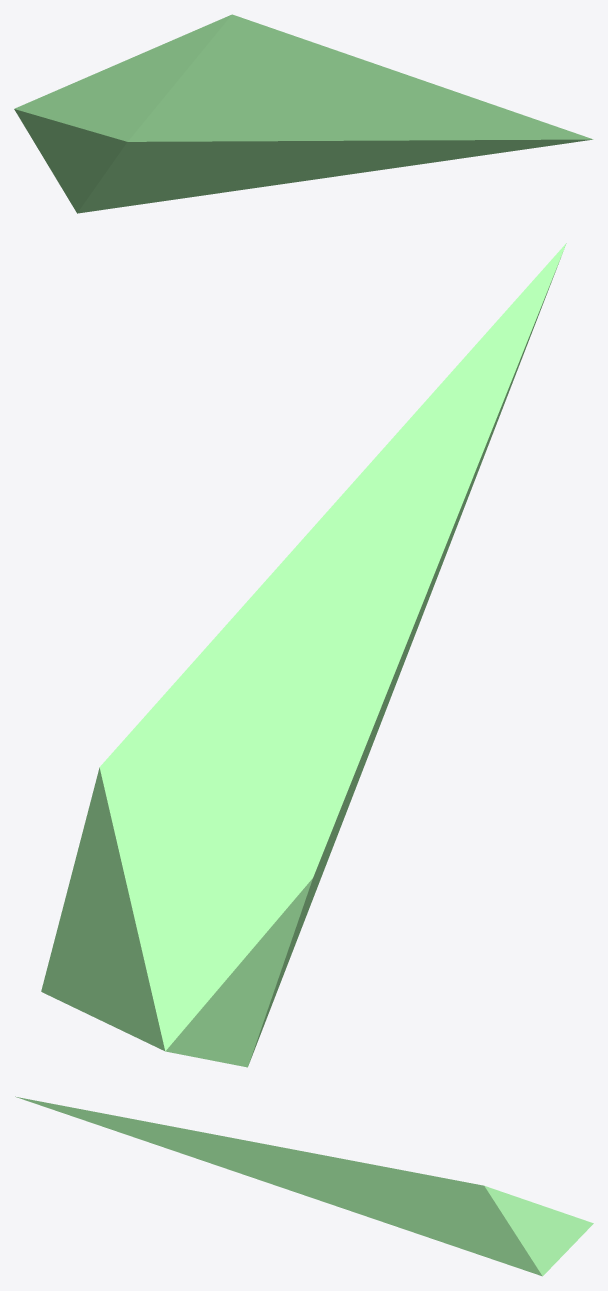
File: xarm7_with_gripper_LR4_R560_link7_respondable_coll_18.dae
The picture shows the model from 3 angles, top to bottom: view 1: azimuth 30°, elevation 25°; view 2: azimuth 150°, elevation 25°; view 3: azimuth 270°, elevation 25°; orthographic projection. The views are drawn at different scales.
Parts seen in each view (by area): view 1: Node_000001B88F9E1200; view 2: Node_000001B88F9E1200; view 3: Node_000001B88F9E1200.
Boxes of the visible parts, x1,y1,x2,y2 form: Node_000001B88F9E1200: [14, 14, 593, 213]; Node_000001B88F9E1200: [41, 243, 566, 1067]; Node_000001B88F9E1200: [15, 1096, 593, 1276].
Bounding box in the file's own units: 0.00305 × 0.00682 × 0.0172.
